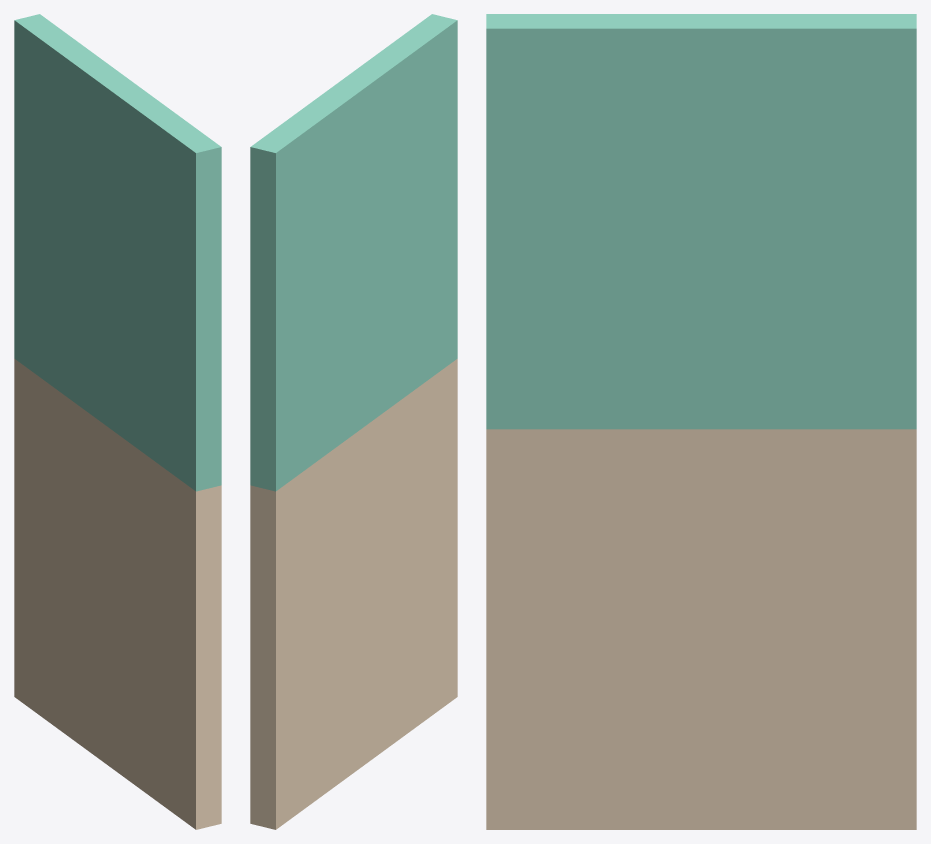
File: wall.fbx
3 renders of one model, left to right at view 1: azimuth 30°, elevation 25°; view 2: azimuth 150°, elevation 25°; view 3: azimuth 270°, elevation 25°, orthographic. The views are drawn at different scales.
Parts seen in each view (by area): view 1: wall; view 2: wall; view 3: wall.
Boxes of the visible parts, bbox=[...] form: wall: bbox=[14, 14, 221, 829]; wall: bbox=[250, 14, 457, 829]; wall: bbox=[486, 14, 916, 829].
Size of the model in its own units: 16.61 by 422 by 205.
